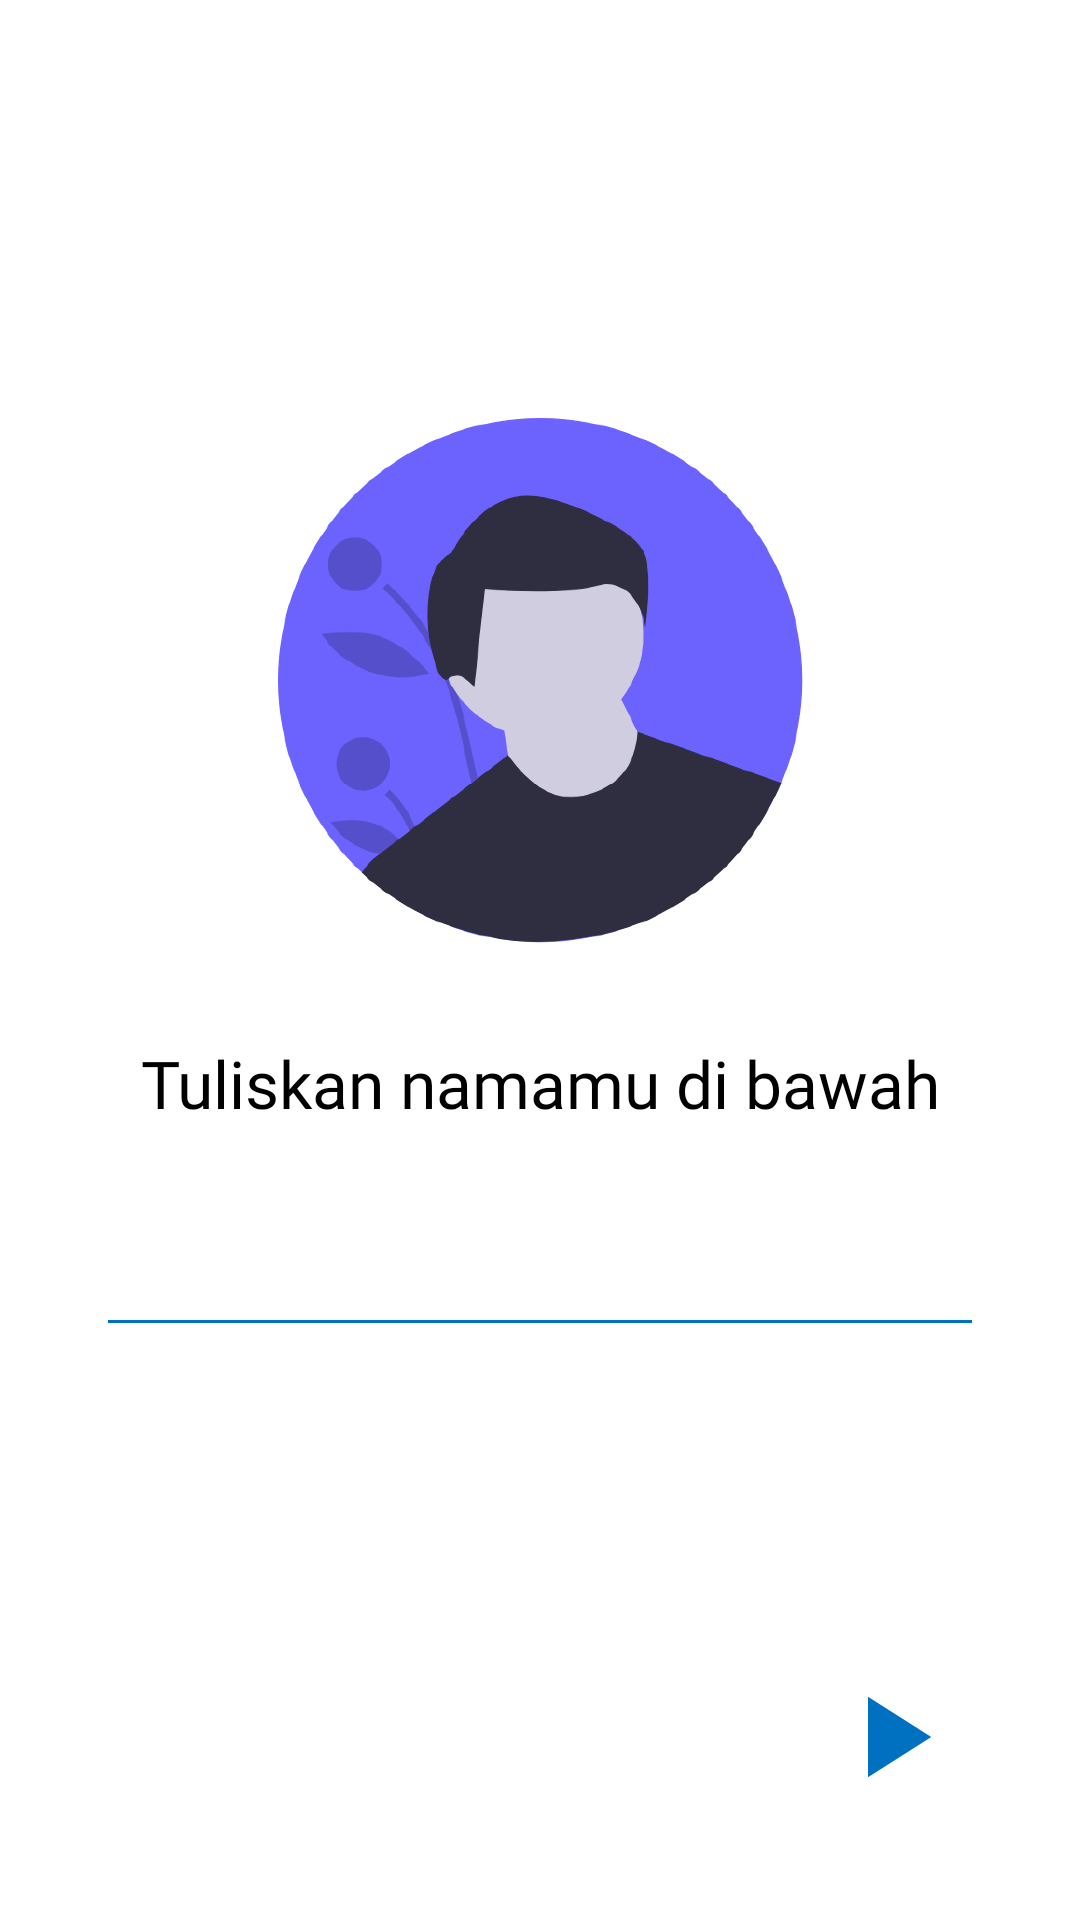

Point at icon controls on the screen. Image size 1080 x 1920, points as point (x, y).
next: point (899, 1737)
